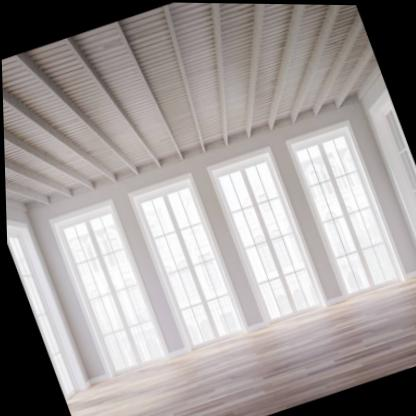Window: (129, 174, 247, 352), (207, 148, 324, 325), (49, 199, 167, 374), (288, 124, 404, 298)
